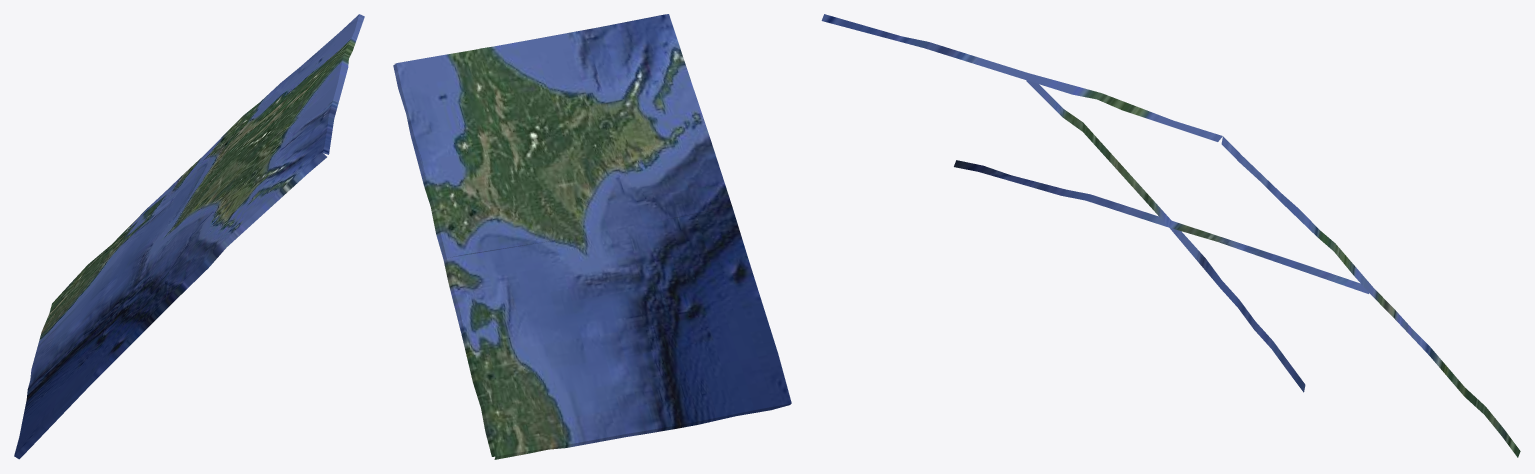
3 views of the same model, side by side, from view 1: azimuth 30°, elevation 25°; view 2: azimuth 150°, elevation 25°; view 3: azimuth 270°, elevation 25° (orthographic). The views are drawn at different scales.
Bounding box in the file's own units: 617241 × 476984 × 629659.
1 material, 1 textured.
